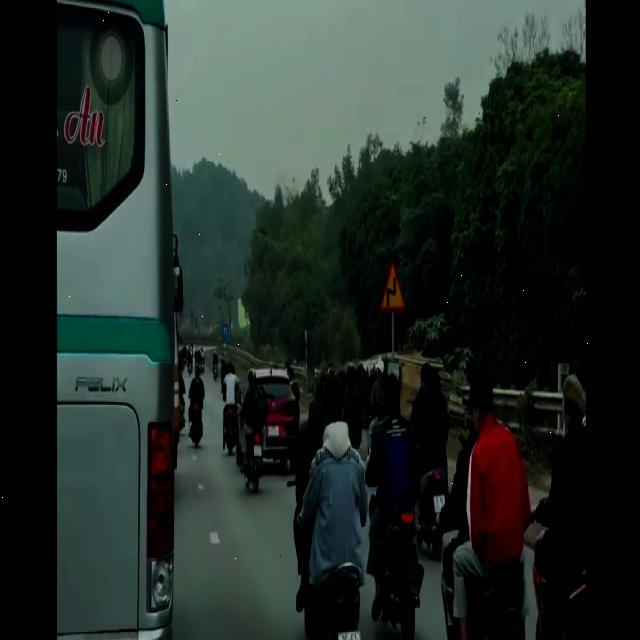no_helmet: (323, 370, 350, 440), (470, 369, 494, 436), (563, 374, 584, 444), (387, 373, 400, 431)
